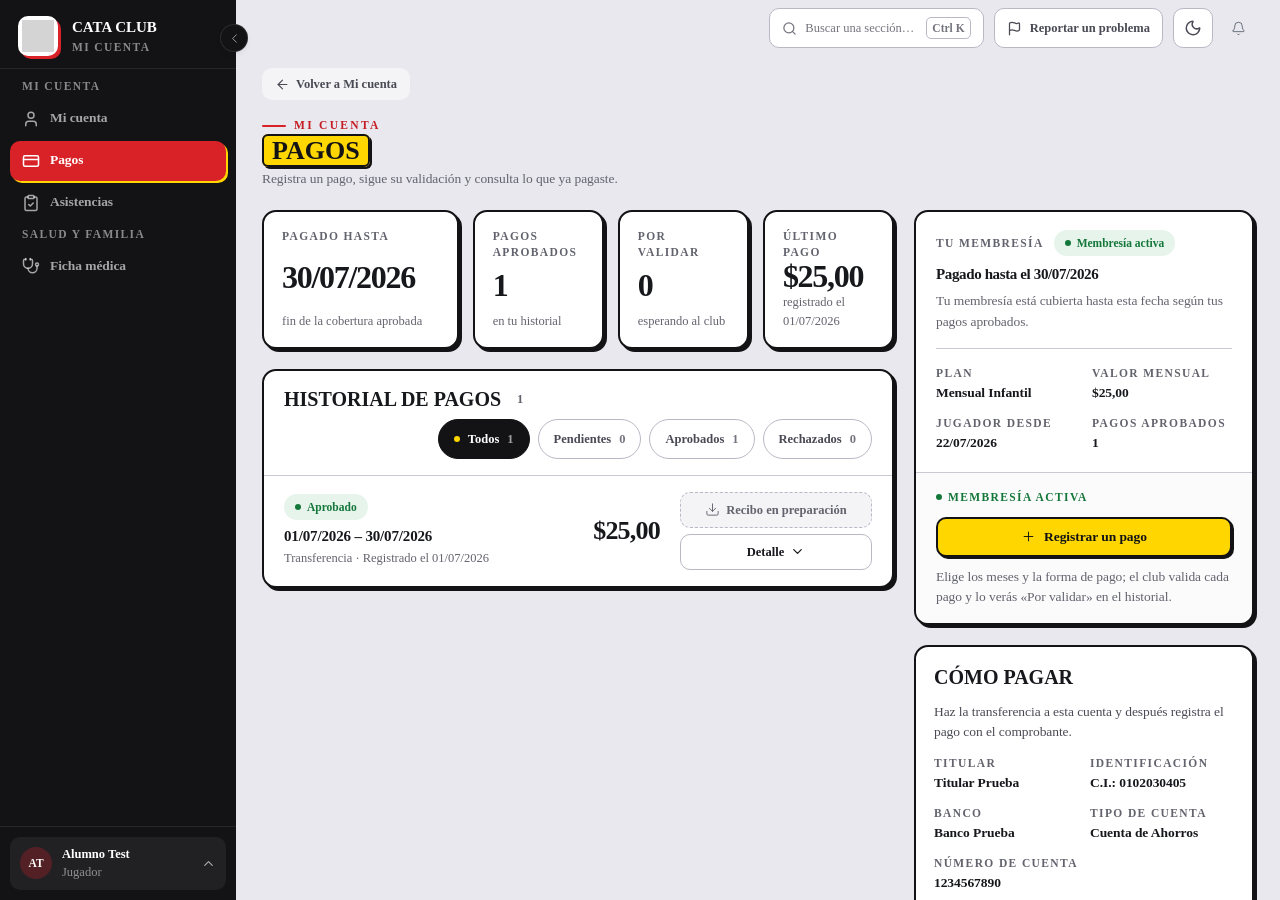
Test: StudentPaymentsPage — the row accordion (#513) › opens a row's detail from its own toggle
Expected: the list with test id "student-payments-table" is shown, [264,475,892,586]
Expected: the text "Verificado en la cuenta del club" is not shown
Click the button "Detalle" at coordinates (776, 552), box [680,534,872,570]
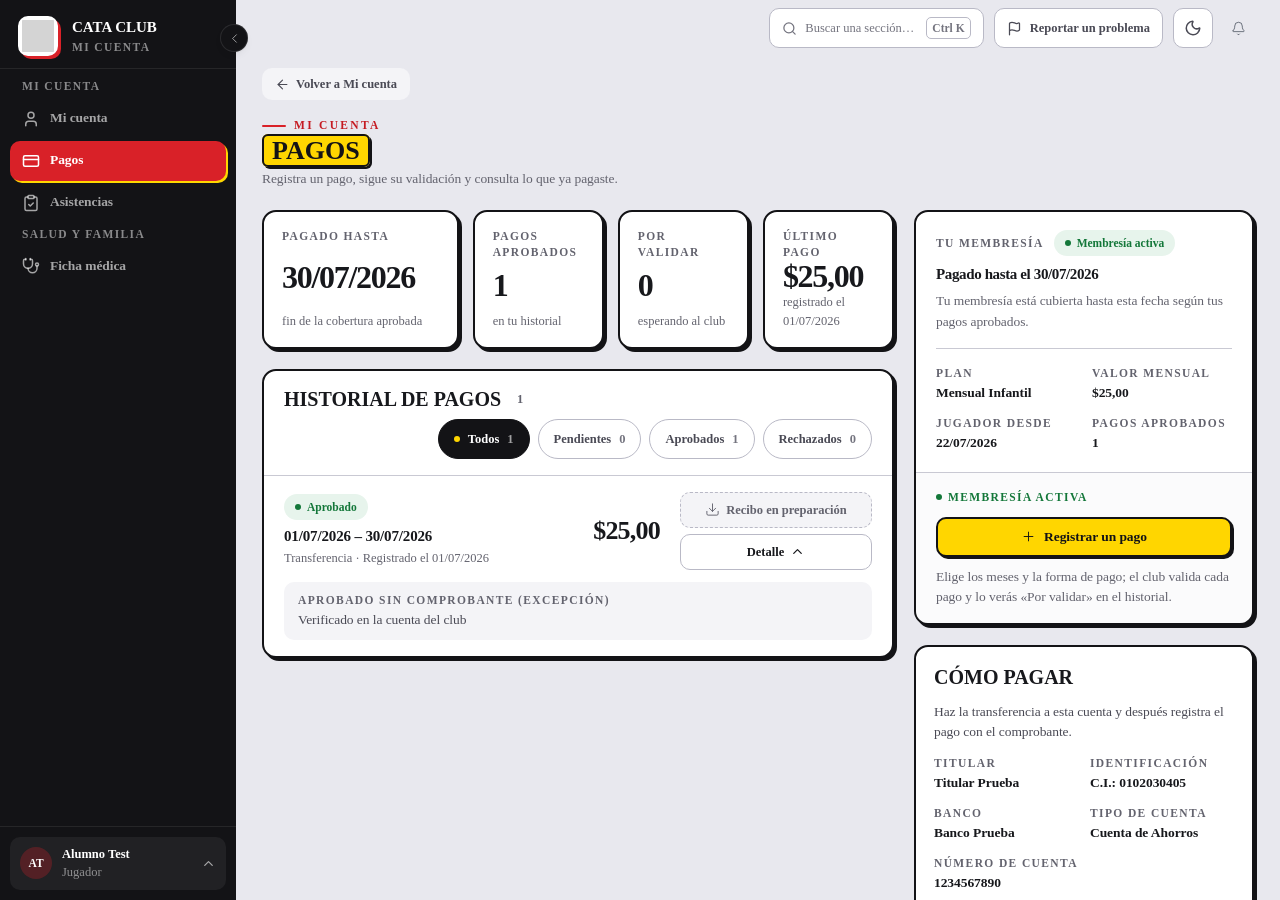
Now the button "Detalle" is expanded, box [680,534,872,570]
Now the text "Verificado en la cuenta del club" is shown, box [298,612,466,627]
